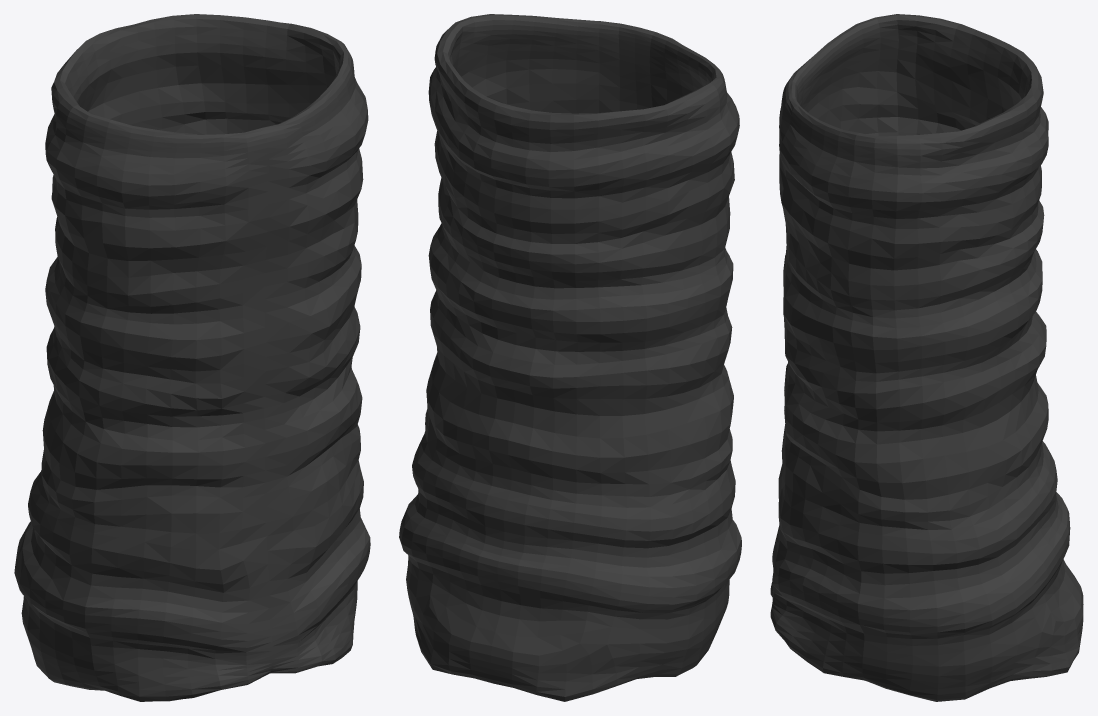
Rendered from trachea_LO.glb.
The picture shows the model from 3 angles, left to right: view 1: azimuth 30°, elevation 25°; view 2: azimuth 150°, elevation 25°; view 3: azimuth 270°, elevation 25°; orthographic projection. The views are drawn at different scales.
Parts seen in each view (by area): view 1: trachea_LO; view 2: trachea_LO; view 3: trachea_LO.
Part boxes in pixels (x1,y1,x2,y2): trachea_LO: (14,14,370,701); trachea_LO: (399,14,741,701); trachea_LO: (770,14,1083,701).
Size of the model in its own units: 0.2562 by 0.4653 by 0.2326.
1 material, 1 textured.
